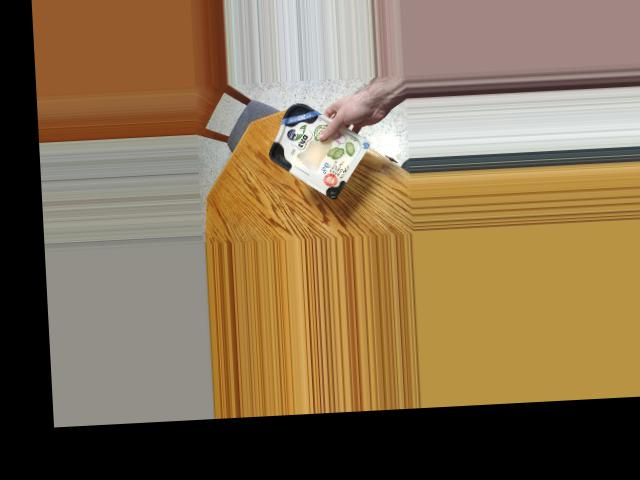cheese: (270, 94, 356, 196)
